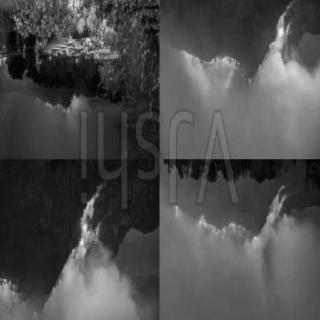Fire: (169, 183, 291, 265), (262, 8, 306, 86), (178, 48, 252, 92), (70, 192, 104, 272), (35, 88, 91, 120), (2, 272, 18, 310)
Smoke: (186, 83, 312, 153), (170, 252, 312, 310), (57, 275, 129, 319)
